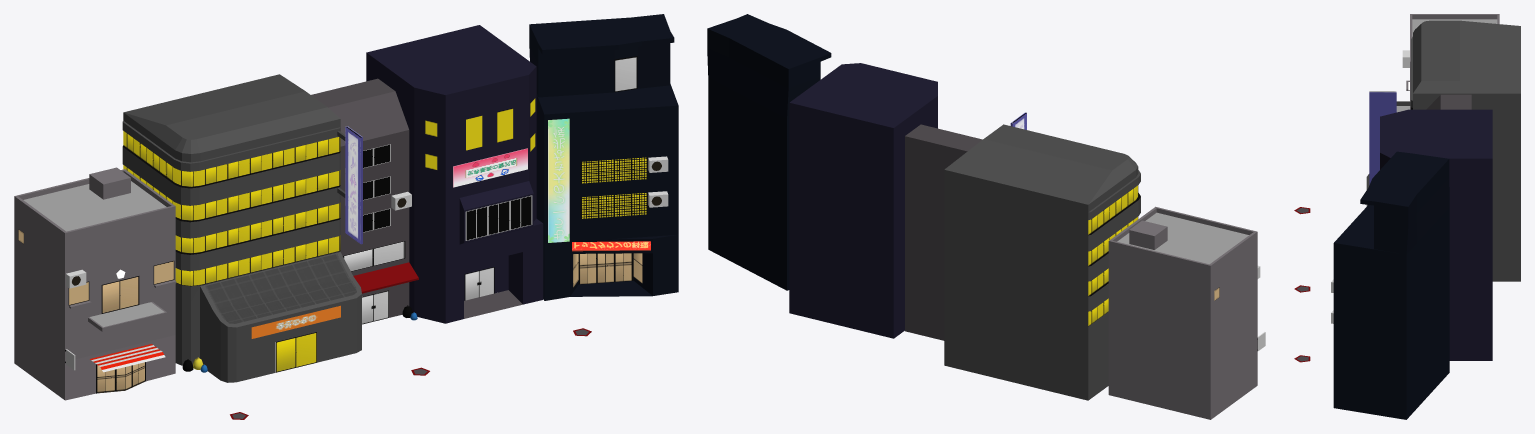
The model's file is neon_row.glb.
3 views of the same model, side by side, from view 1: azimuth 30°, elevation 25°; view 2: azimuth 150°, elevation 25°; view 3: azimuth 270°, elevation 25° (orthographic). The views are drawn at different scales.
Parts seen in each view (by area): view 1: Object_13, Object_46, Object_65, Object_7, Object_12, Object_29, Object_14, Object_107, Object_41, Object_77, Object_73, Object_87 (+12 smaller); view 2: Object_13, Object_46, Object_7, Object_65, Object_29, Object_107, Object_12; view 3: Object_65, Object_46, Object_13, Object_39, Object_29, Object_7, Object_107, Object_5.
Boxes of the visible parts, <box> form: Object_13: <box>122,74,361,382</box>; Object_46: <box>366,25,543,323</box>; Object_65: <box>529,14,678,300</box>; Object_7: <box>14,167,176,400</box>; Object_12: <box>122,131,340,372</box>; Object_29: <box>232,78,591,419</box>; Object_14: <box>205,254,356,323</box>; Object_107: <box>23,181,166,327</box>; Object_41: <box>363,144,532,240</box>; Object_77: <box>580,157,647,218</box>; Object_73: <box>96,253,633,393</box>; Object_87: <box>548,118,569,242</box>; Object_13: <box>944,124,1140,400</box>; Object_46: <box>789,63,937,338</box>; Object_7: <box>1108,206,1257,419</box>; Object_65: <box>707,14,831,290</box>; Object_29: <box>905,124,982,340</box>; Object_107: <box>1117,212,1248,264</box>; Object_12: <box>1088,185,1140,326</box>; Object_65: <box>1333,151,1449,419</box>; Object_46: <box>1380,109,1492,360</box>; Object_13: <box>1366,20,1520,281</box>; Object_39: <box>1369,92,1396,184</box>; Object_29: <box>1297,94,1471,362</box>; Object_7: <box>1406,14,1499,109</box>; Object_107: <box>1396,19,1497,112</box>; Object_5: <box>1331,50,1409,323</box>.
Size of the model in its own units: 50.29 by 19.4 by 18.65.
Materials: 32 (16 with a texture image).
